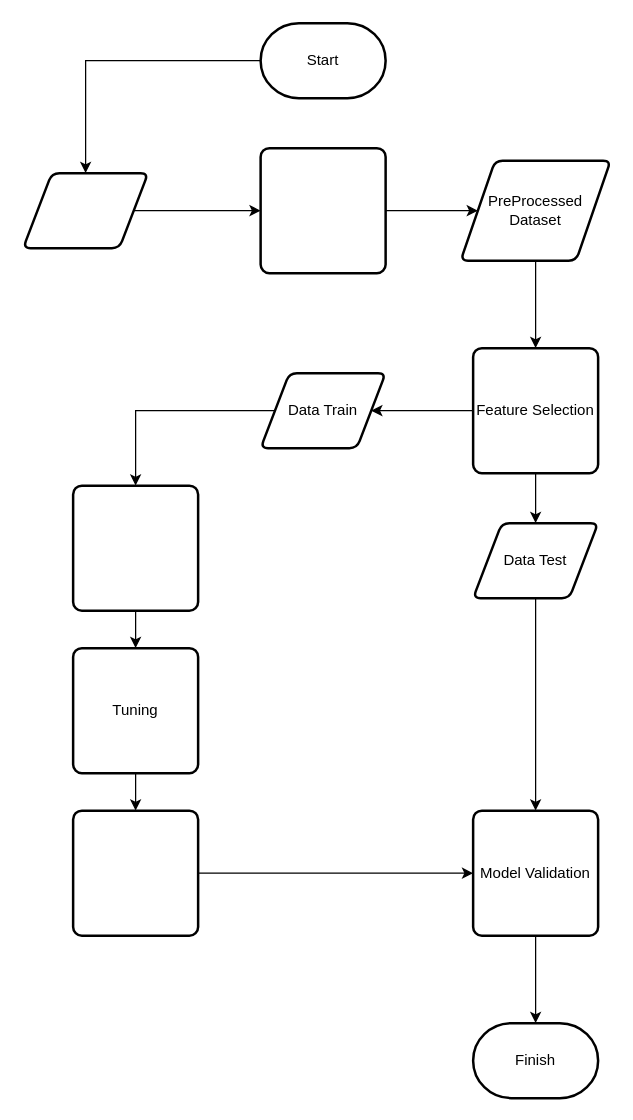
This 633x1120 diagram has some shape labels left out. Each missing label, with the centre of its shape:
"Dataset" goes at point (85, 210).
"Model Creation" goes at point (135, 547).
"PreProcessing" goes at point (322, 210).
"Tuned Model" goes at point (135, 872).
